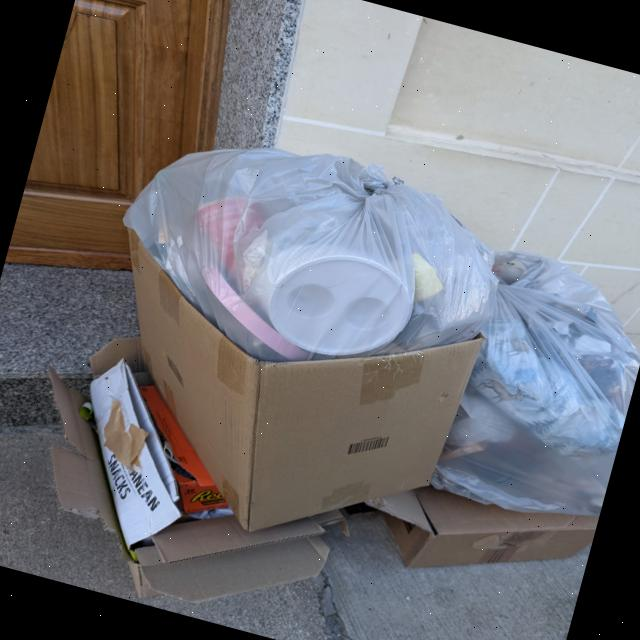Other Waste: (58, 224, 476, 576), (0, 314, 388, 640), (350, 455, 598, 615)
Recyclable Material: (96, 103, 522, 415), (429, 242, 640, 534)
